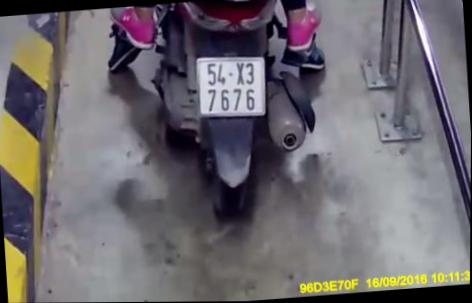LP: (194, 50, 269, 121)
